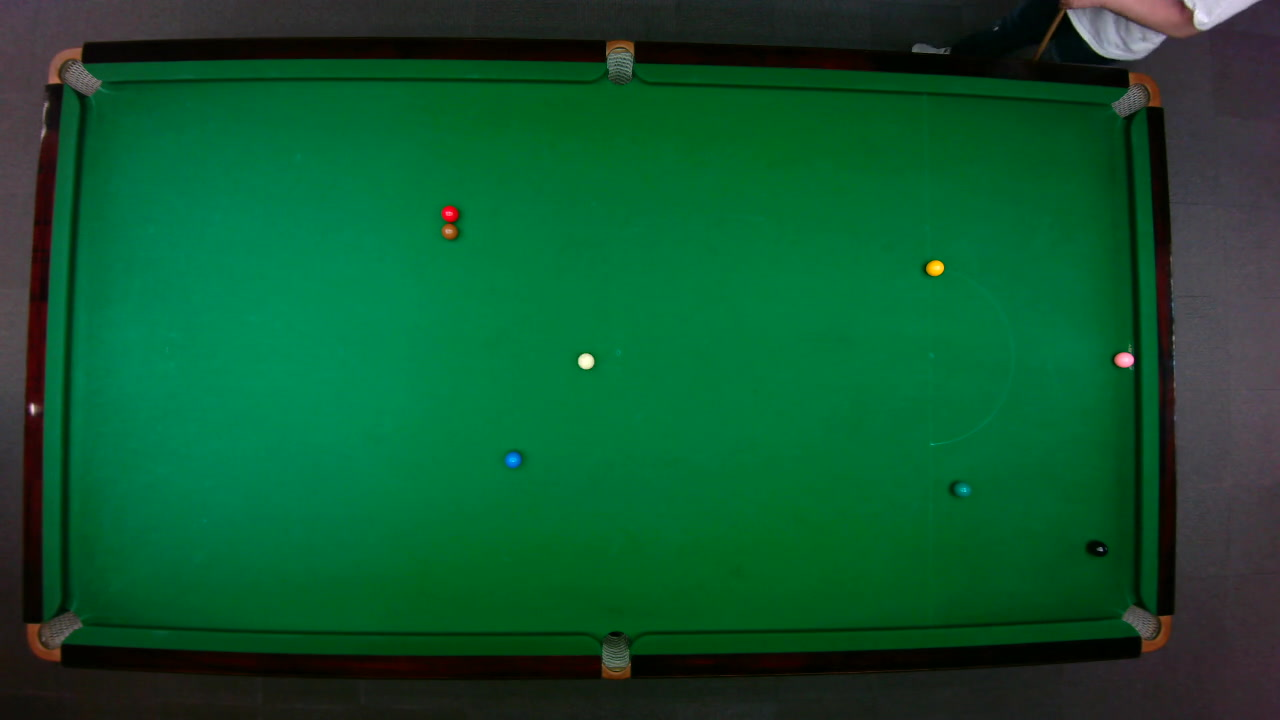bag: (24, 609, 83, 661), (45, 46, 102, 96), (1119, 603, 1171, 652), (1109, 71, 1161, 118), (600, 629, 629, 680), (605, 38, 633, 85)
black: (1088, 539, 1108, 557)
blue: (504, 450, 522, 468)
brown: (440, 223, 458, 240)
green: (951, 480, 972, 497)
pink: (1112, 350, 1135, 368)
red: (439, 203, 459, 222)
white: (576, 351, 595, 370)
yellow: (924, 258, 944, 276)
zone: (927, 265, 1013, 445)
